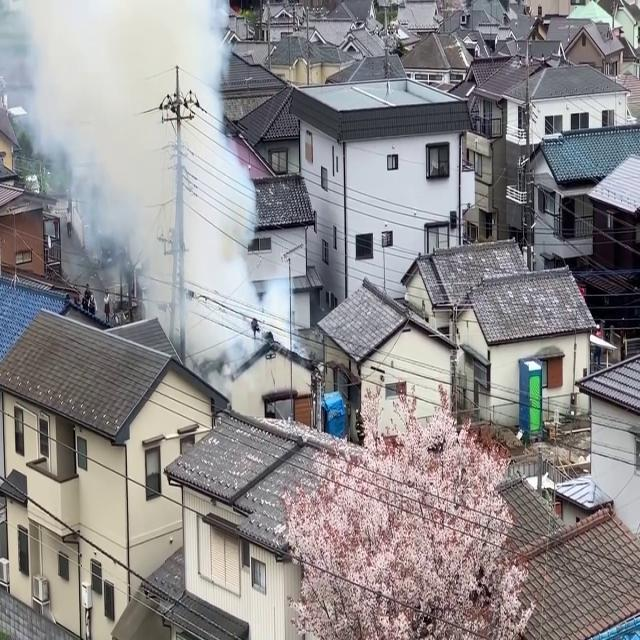Smoke: (6, 0, 284, 377)
